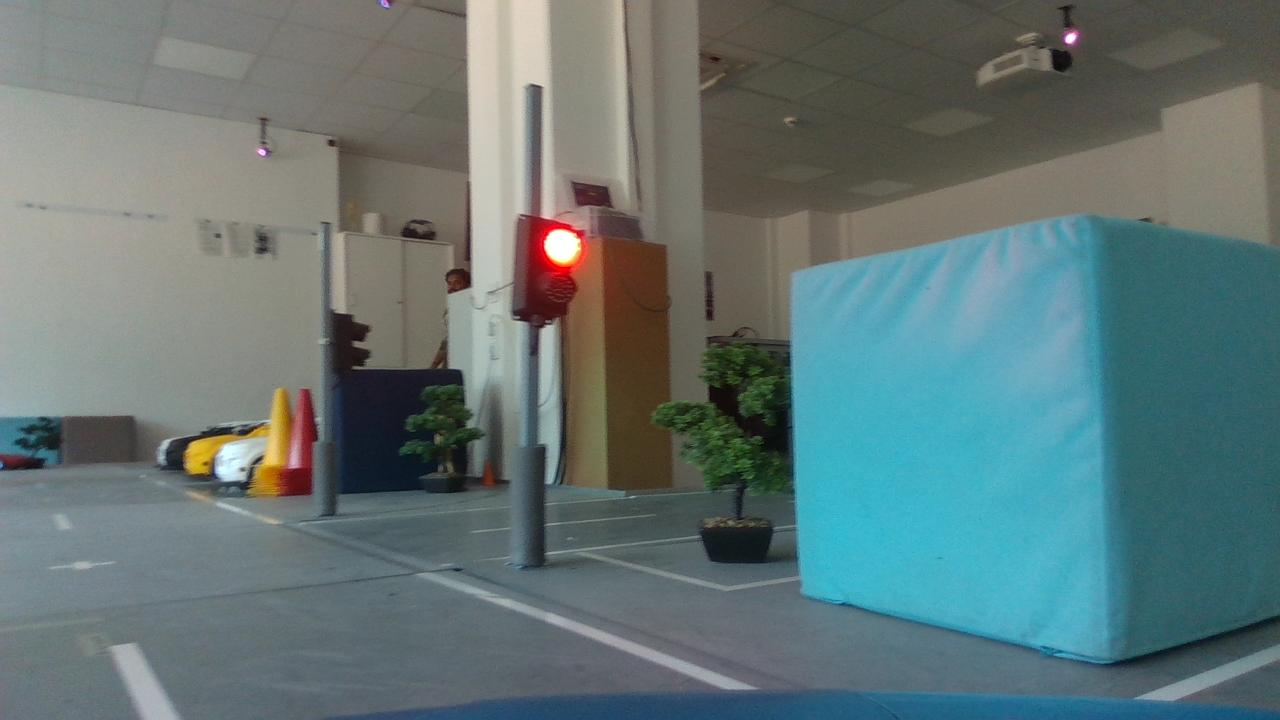traffic_light_red: (494, 200, 598, 344)
